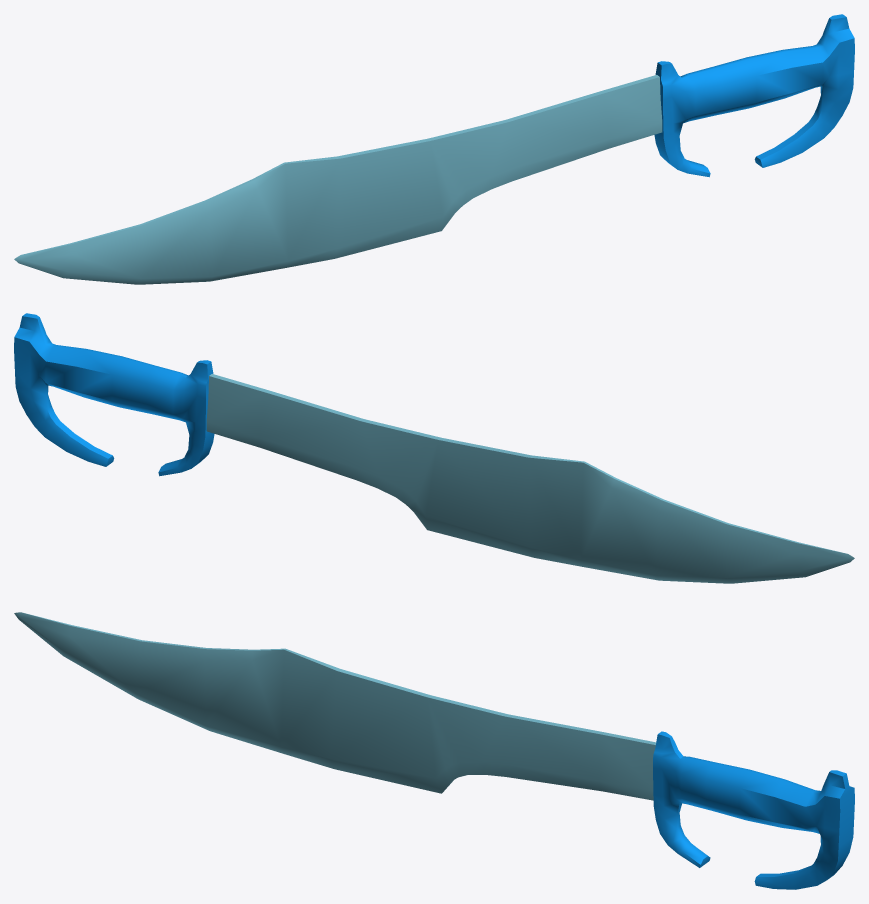
The picture shows the model from 3 angles, top to bottom: view 1: azimuth 30°, elevation 25°; view 2: azimuth 150°, elevation 25°; view 3: azimuth 330°, elevation 25°; orthographic projection.
Visible parts, largest first — view 1: sword_StingrayPBS3_0.015, sword_StingrayPBS3_0; view 2: sword_StingrayPBS3_0.015, sword_StingrayPBS3_0; view 3: sword_StingrayPBS3_0.015, sword_StingrayPBS3_0.
Part boxes in pixels (<box>): sword_StingrayPBS3_0.015: <box>14,75,662,284</box>; sword_StingrayPBS3_0: <box>654,14,854,177</box>; sword_StingrayPBS3_0.015: <box>206,374,854,583</box>; sword_StingrayPBS3_0: <box>14,313,214,476</box>; sword_StingrayPBS3_0.015: <box>14,612,656,800</box>; sword_StingrayPBS3_0: <box>653,731,854,889</box>.
Bounding box in the file's own units: 1 × 0.1488 × 0.0369.
